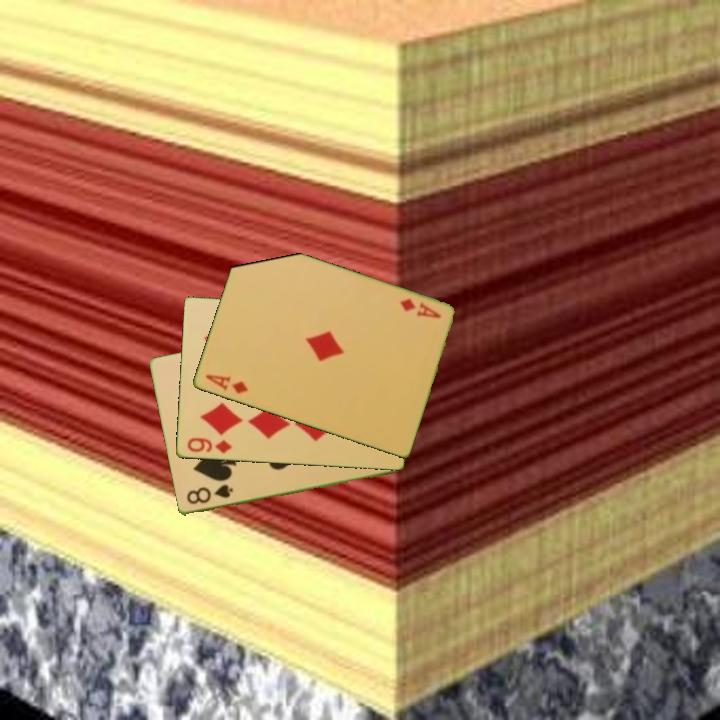8s: (183, 481, 236, 508)
9d: (184, 434, 234, 456)
Ad: (202, 371, 251, 397), (395, 295, 444, 321)
